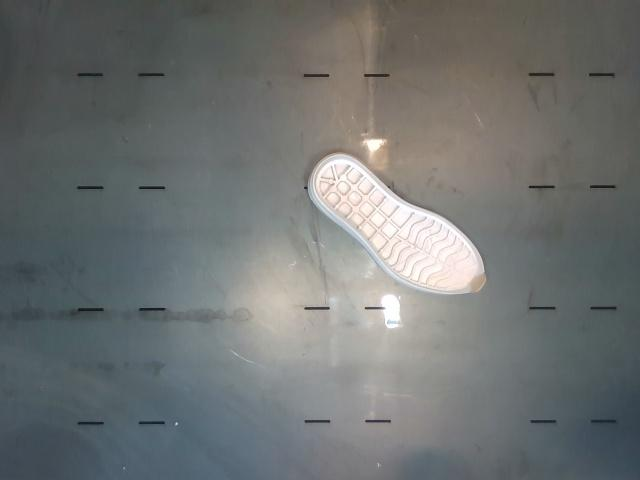shoes: (314, 155, 485, 293)
